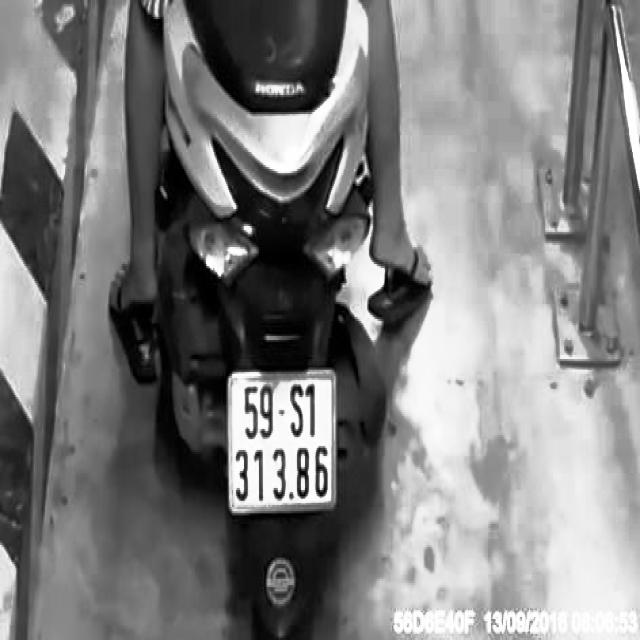license_plate: (228, 370, 340, 520)
